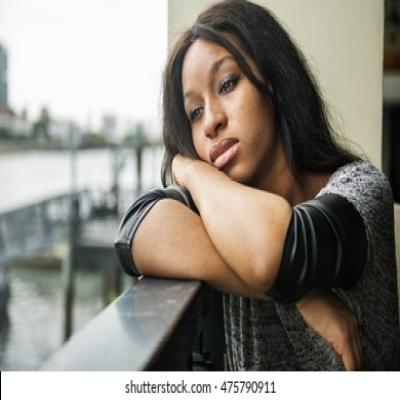sad: (180, 39, 273, 180)
